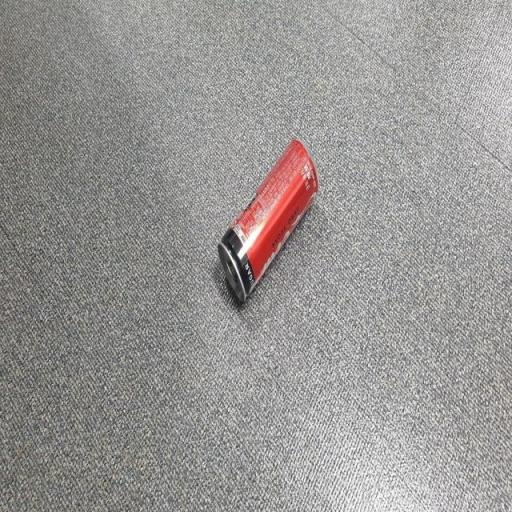metal: (207, 129, 327, 319)
